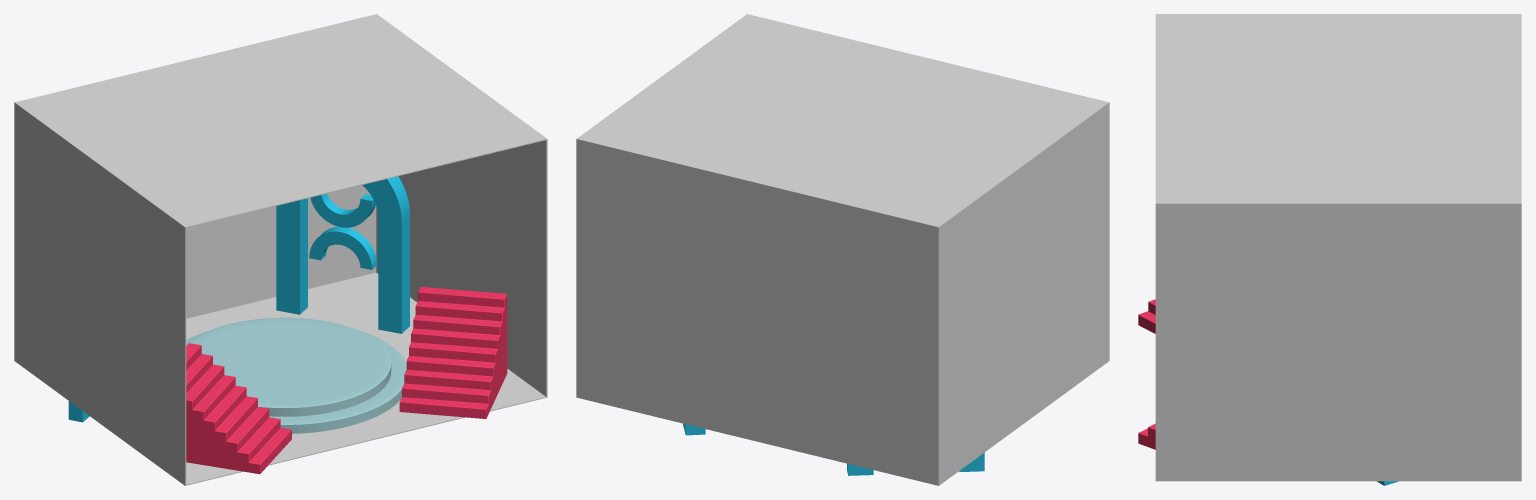
The model's file is escenarios3d.fbx.
The picture shows the model from 3 angles, left to right: view 1: azimuth 30°, elevation 25°; view 2: azimuth 150°, elevation 25°; view 3: azimuth 270°, elevation 25°; orthographic projection. The views are drawn at different scales.
Visible parts, largest first — view 1: Cube.118, Cylinder.002, Cube.007, Cube.001, Text.007, Cylinder.003, Text.001, Text.006; view 2: Cube.118; view 3: Cube.118.
Part boxes in pixels (x1,y1,x2,y2): Cube.118: (14,14,547,485); Cylinder.002: (186,317,391,416); Cube.007: (399,286,507,418); Cube.001: (186,343,291,474); Text.007: (276,176,409,333); Cylinder.003: (186,330,406,433); Text.001: (309,226,376,269); Text.006: (310,193,375,227); Cube.118: (576,14,1109,485); Cube.118: (1155,14,1521,481).
Bounding box in the file's own units: 5059 × 3758 × 4324.
